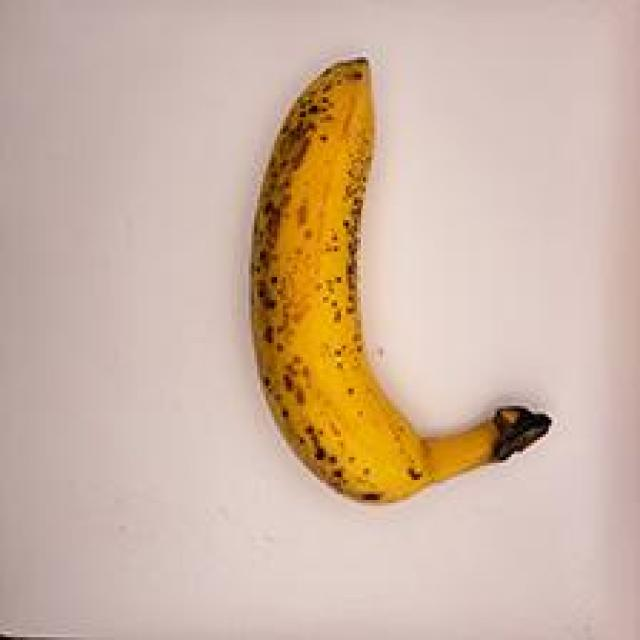Overripe: (205, 38, 567, 535)
